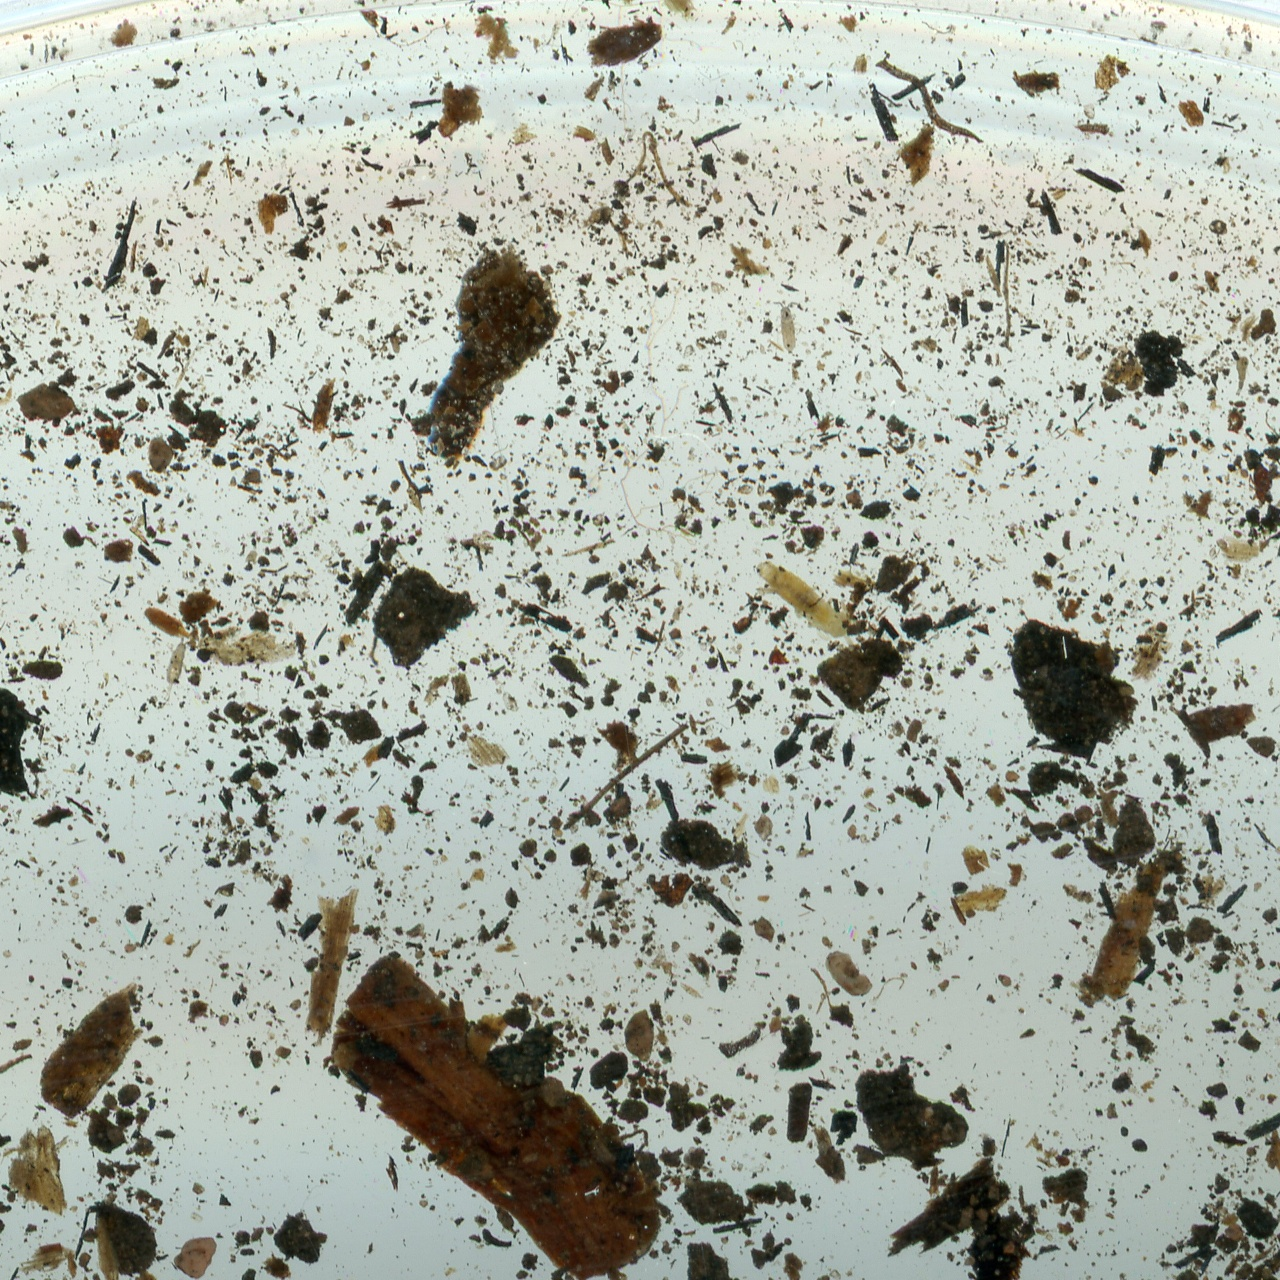arthropod: (769, 293, 809, 359), (159, 634, 193, 708), (1246, 463, 1273, 510)
